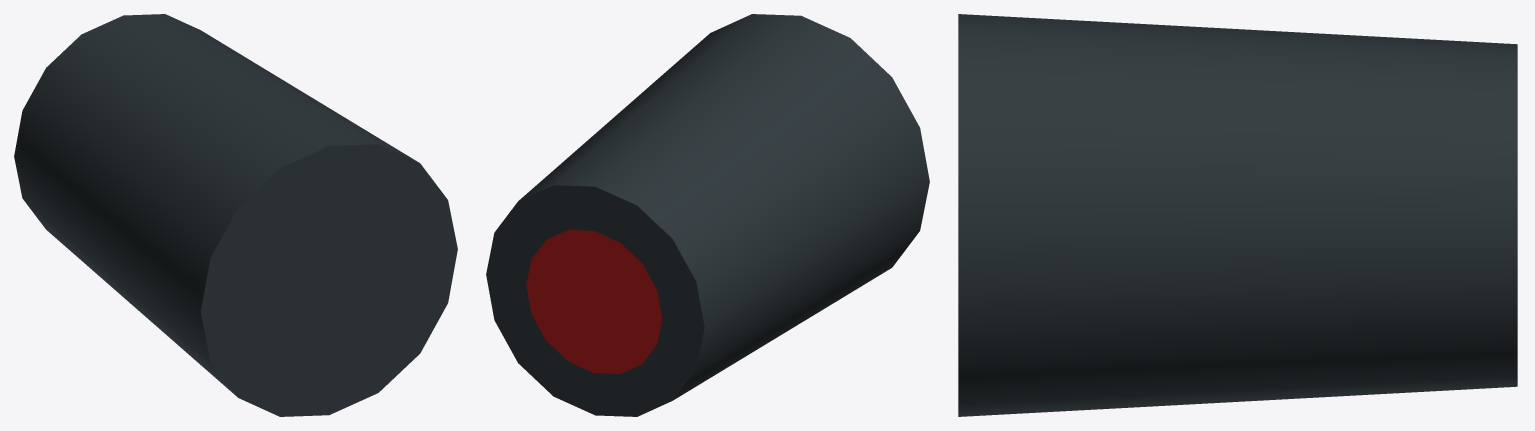
File: cl-heavy-large-laser-round.glb
3 views of the same model, side by side, from view 1: azimuth 30°, elevation 25°; view 2: azimuth 150°, elevation 25°; view 3: azimuth 270°, elevation 25° (orthographic). The views are drawn at different scales.
Parts seen in each view (by area): view 1: mount; view 2: mount; view 3: mount.
Part boxes in pixels (x1,y1,x2,y2): mount: (14,14,457,416); mount: (486,14,929,416); mount: (958,14,1517,416).
Bounding box in the file's own units: 3.75 × 3.75 × 5.23.
